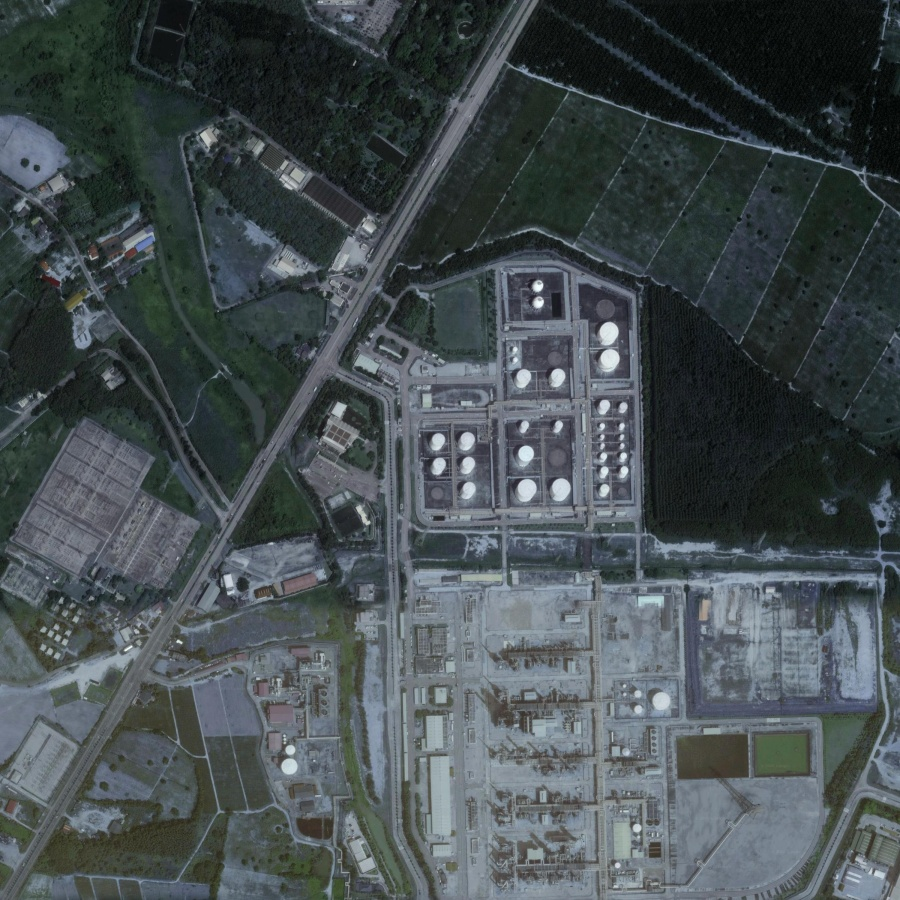PowerPlant: (366, 257, 644, 540), (478, 620, 672, 808)
